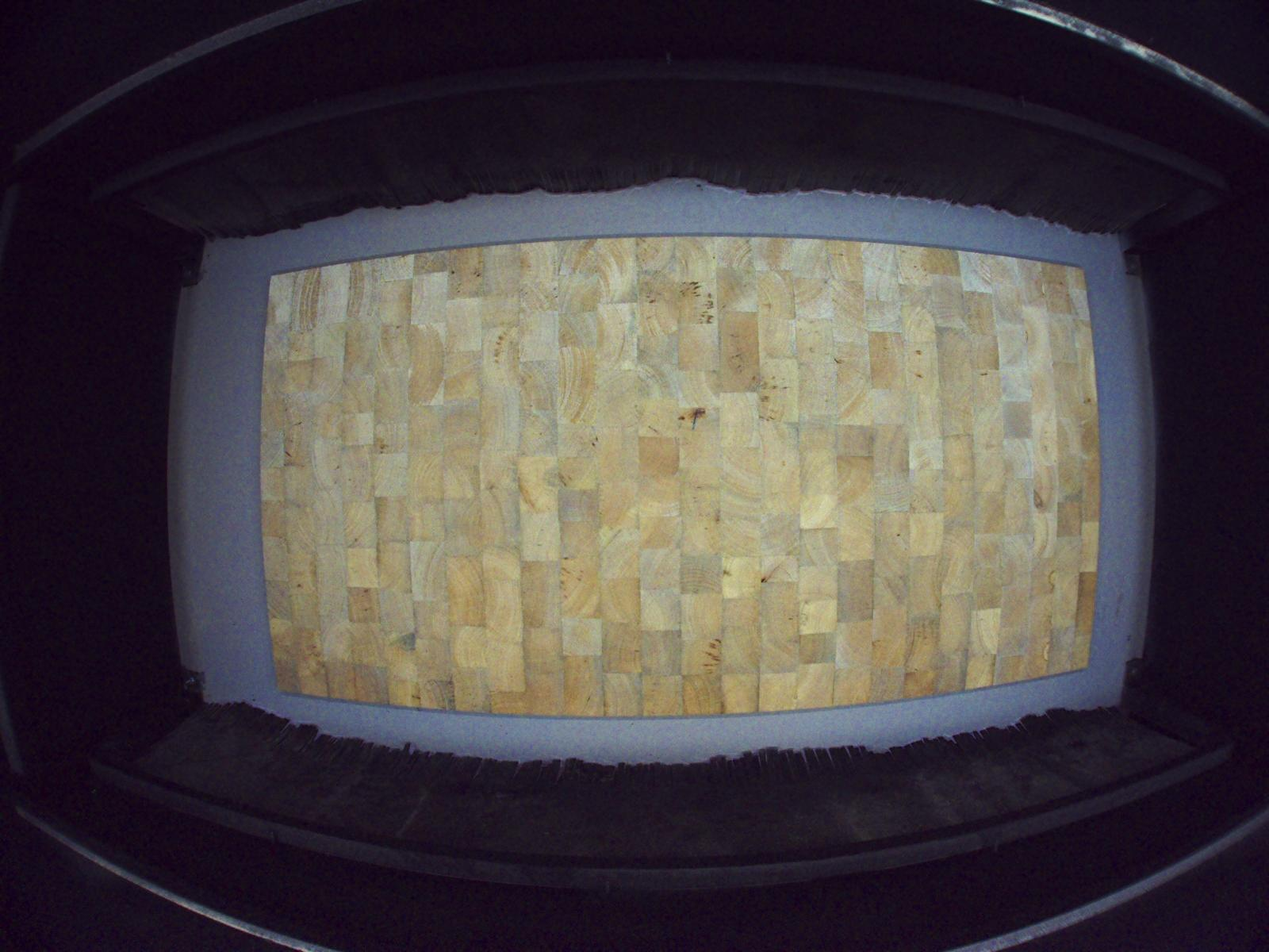nudillo: (677, 406, 707, 424)
